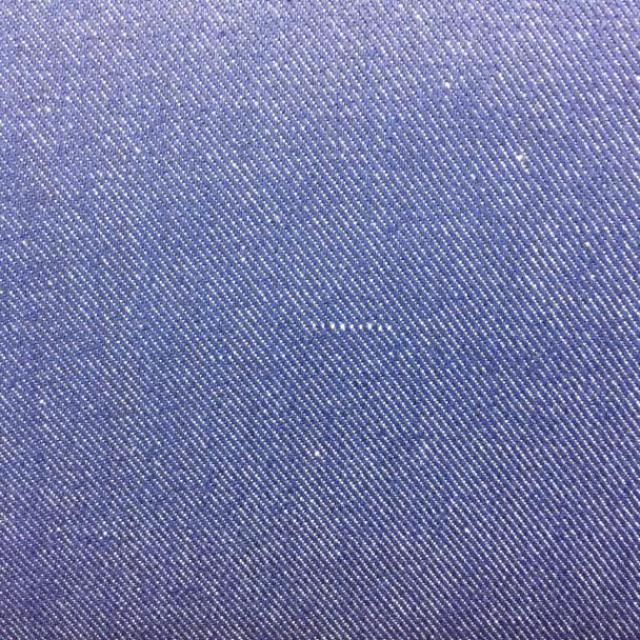Knot: (311, 321, 394, 333)
